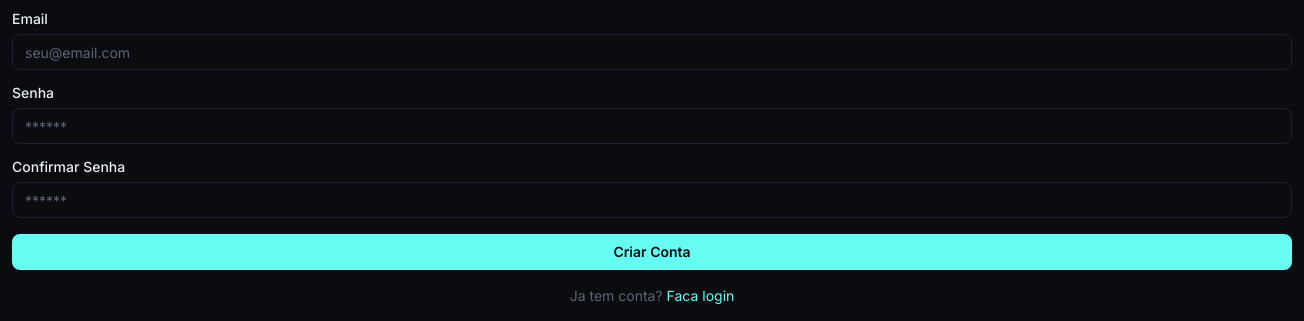
Test case: RegisterForm › disables button during loading
This screenshot has width=1304, height=321.
Type "manager@team.com" into the field labelled "Email" at (652, 52), box [12,34,1292,70]
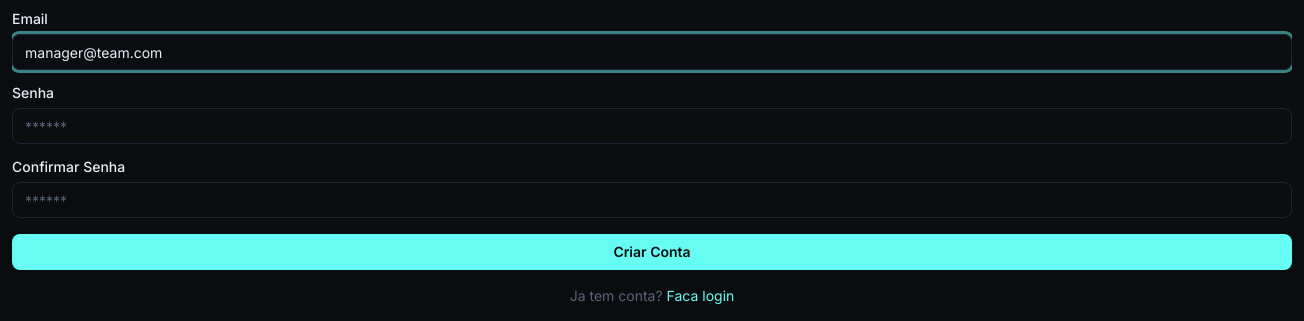
Type "password123" into the password field labelled "Senha" at (652, 126), box [12,108,1292,144]
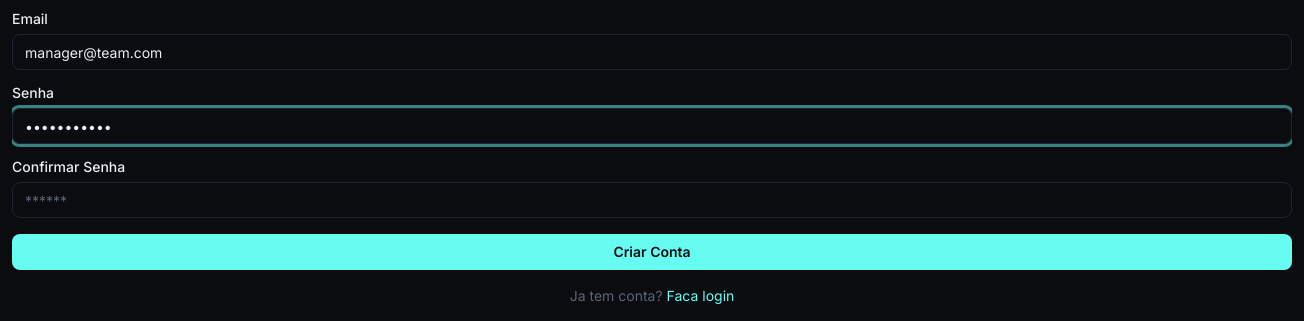
Type "password123" into the password field labelled "Confirmar Senha" at (652, 200), box [12,182,1292,218]
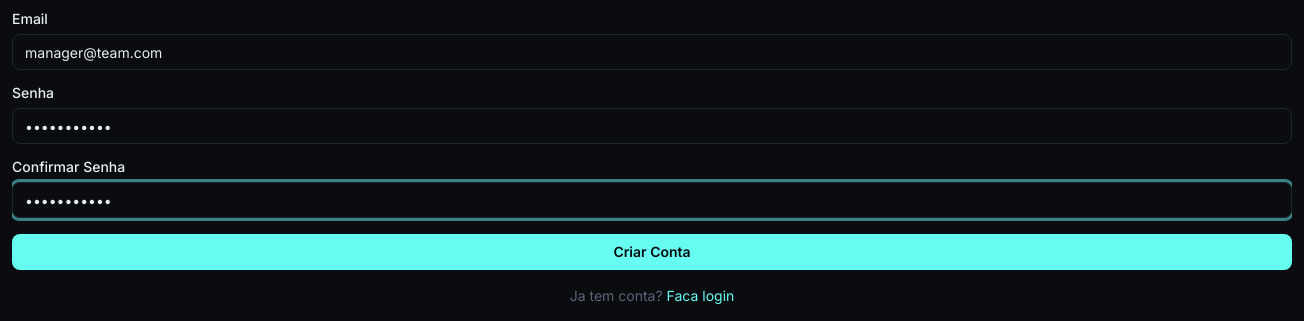
Click the button "Criar Conta" at (652, 252), box [12,234,1292,270]
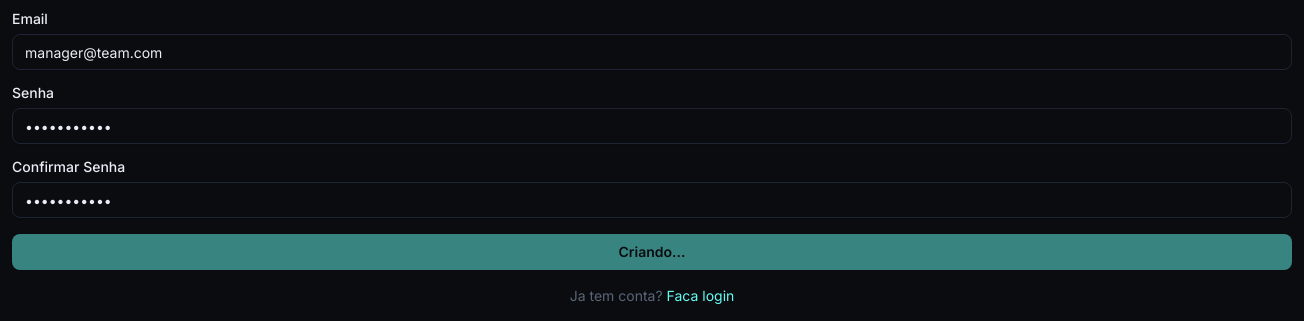
Result: the button "Criando..." is disabled at [12,234,1292,270]
